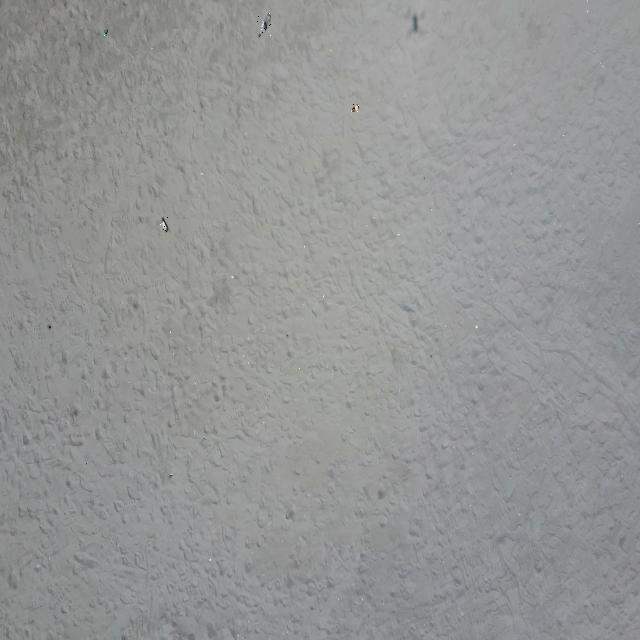glass: (256, 13, 270, 38), (160, 217, 168, 233), (350, 104, 359, 113), (102, 28, 106, 37)
